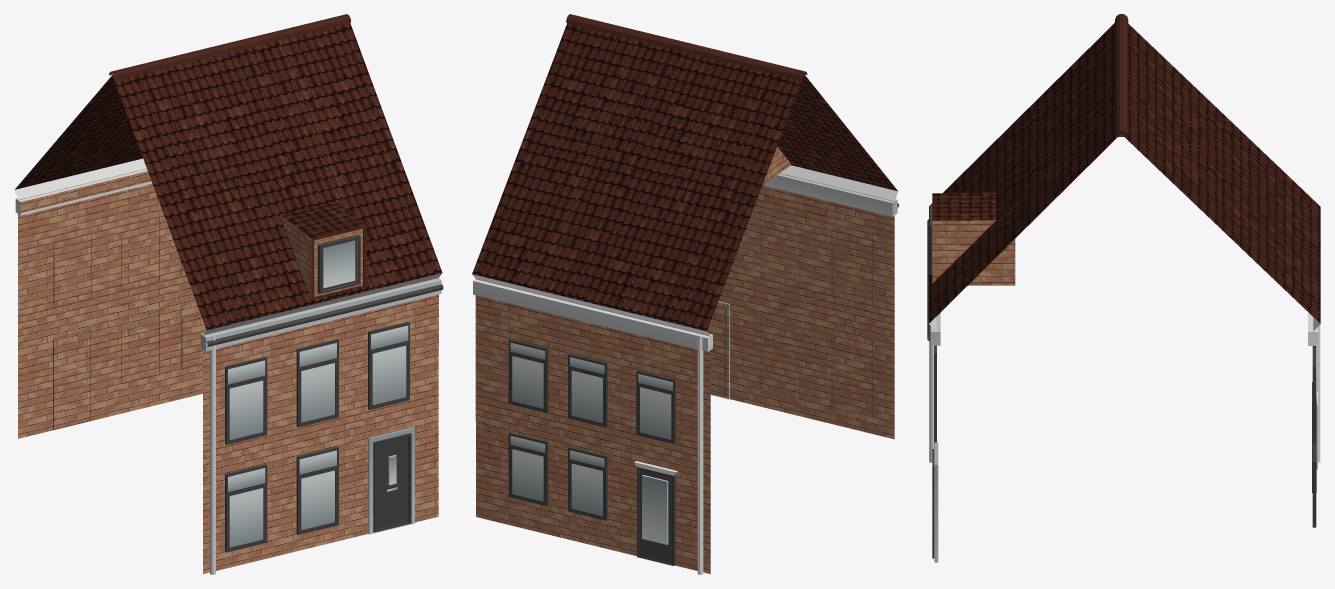
File: It_Tek_24.fbx
3 views of the same model, side by side, from view 1: azimuth 30°, elevation 25°; view 2: azimuth 150°, elevation 25°; view 3: azimuth 270°, elevation 25° (orthographic). The views are drawn at different scales.
Parts seen in each view (by area): view 1: It_Tek_24; view 2: It_Tek_24; view 3: It_Tek_24.
Boxes of the visible parts, box(x1,y1,x2,y2) form: It_Tek_24: box(14, 14, 443, 574); It_Tek_24: box(472, 14, 898, 574); It_Tek_24: box(927, 14, 1320, 562).
Bounding box in the file's own units: 662 × 1167 × 937.
